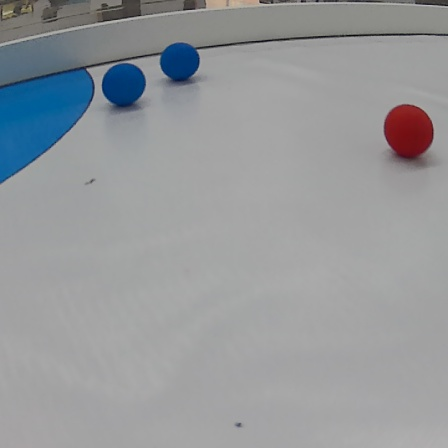blue: (99, 64, 144, 103), (160, 42, 199, 80)
blue_base: (1, 67, 95, 180)
red: (383, 104, 434, 158)
